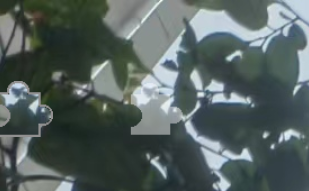target: (123, 78, 190, 134)
